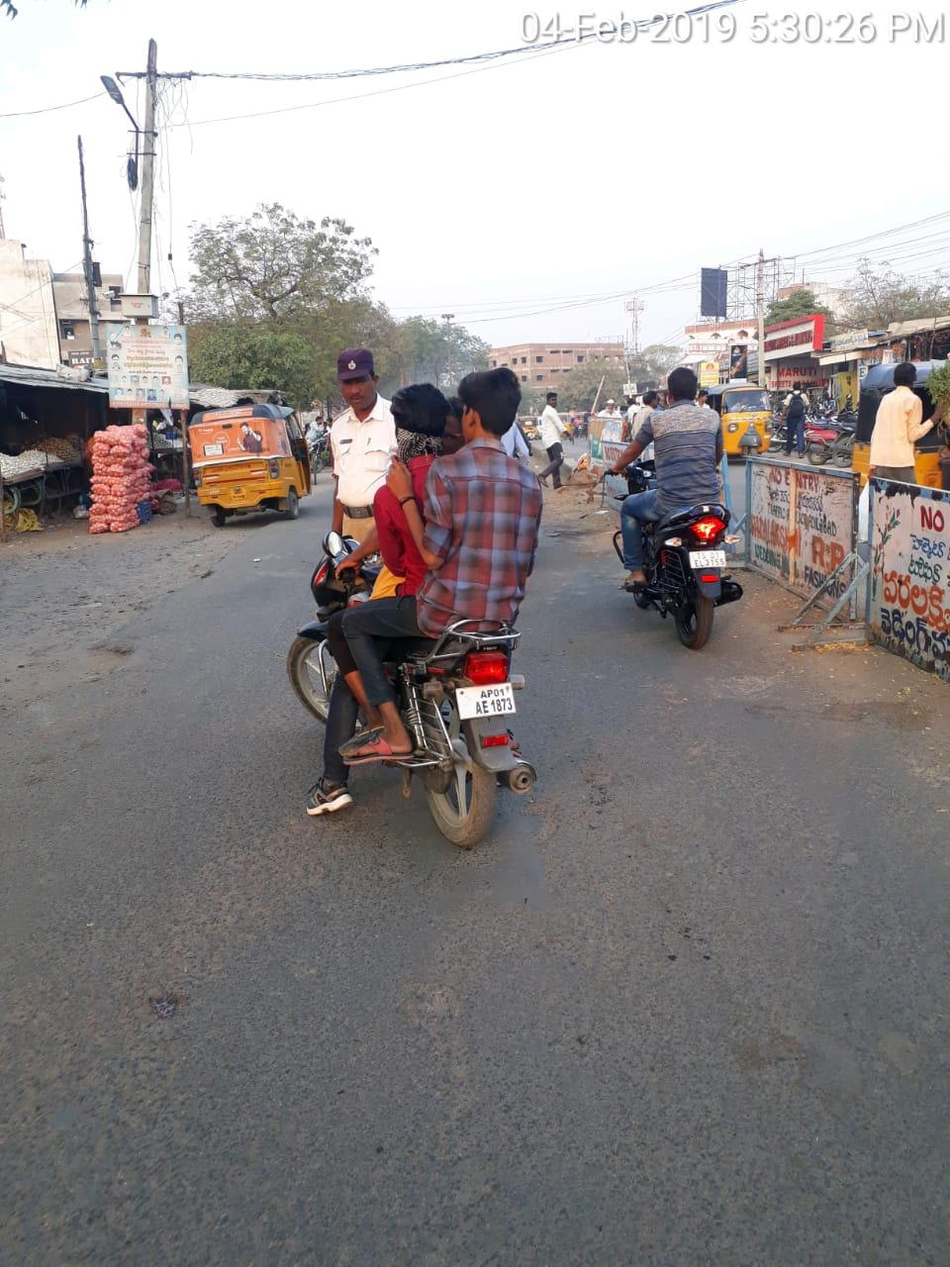plate: (451, 677, 524, 726), (688, 541, 738, 576)
